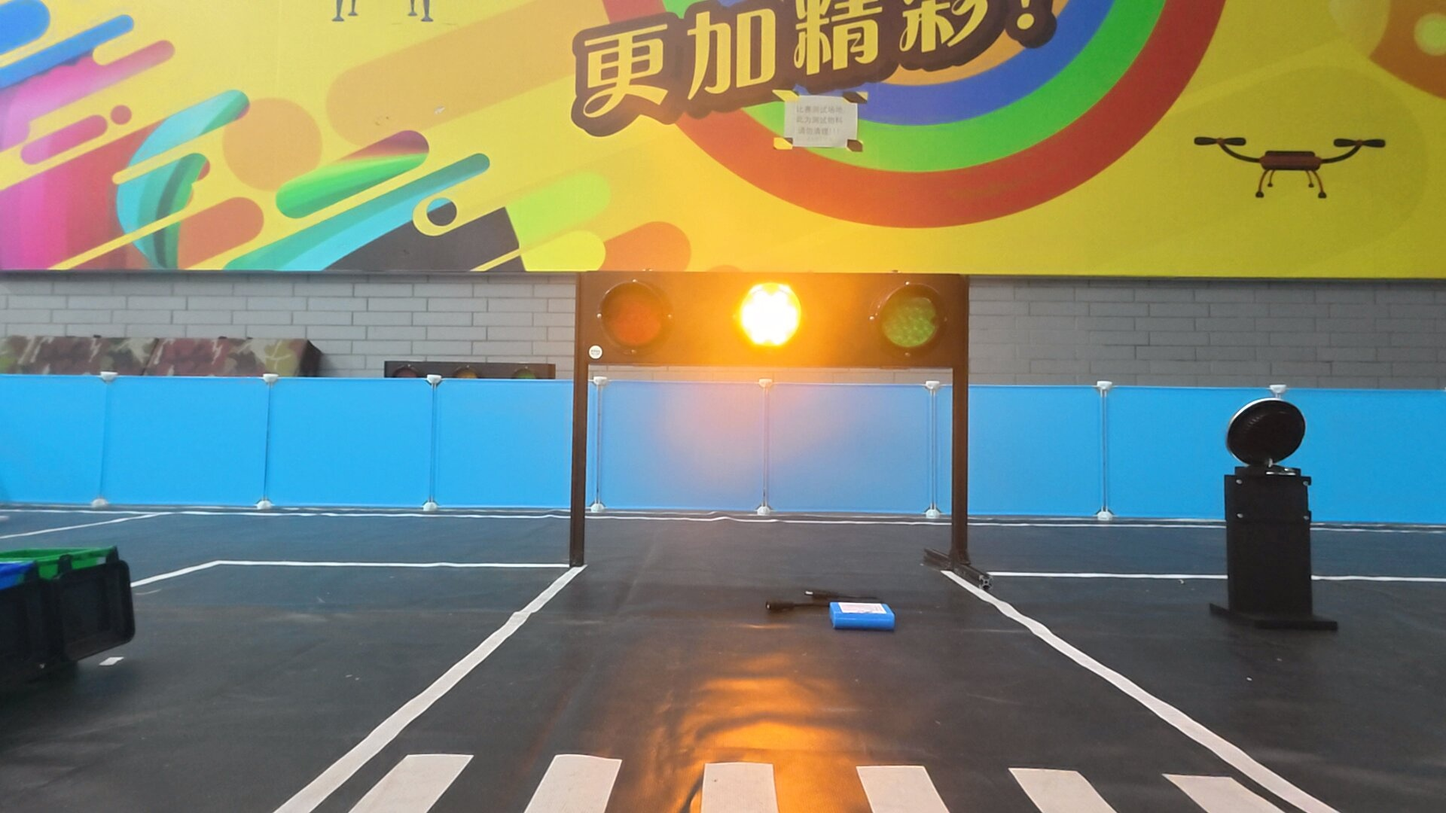stop: (732, 279, 806, 352)
